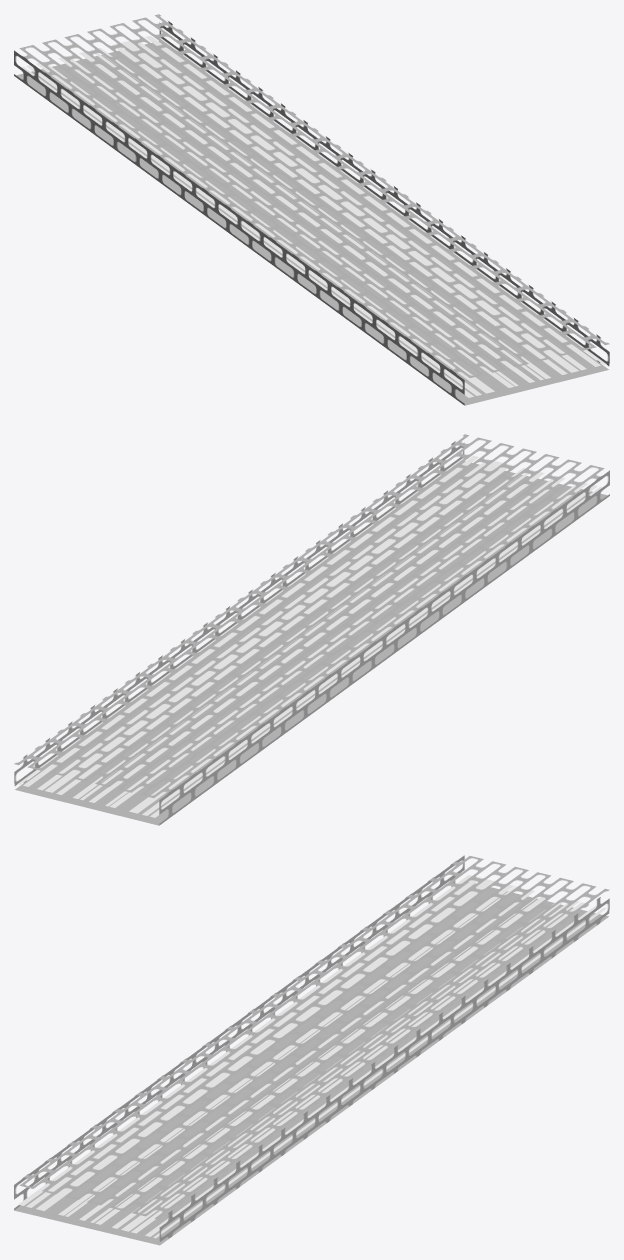
Rendered from cabletray.glb.
3 views of the same model, one above another, from view 1: azimuth 30°, elevation 25°; view 2: azimuth 150°, elevation 25°; view 3: azimuth 330°, elevation 25° (orthographic).
Parts seen in each view (by area): view 1: CableTray; view 2: CableTray; view 3: CableTray.
Part boxes in pixels (x1,y1,x2,y2): CableTray: (14, 14, 609, 405); CableTray: (14, 434, 609, 825); CableTray: (14, 855, 609, 1245).
Size of the model in its own units: 0.9309 by 0.1606 by 5.
3 materials, 2 textured.
